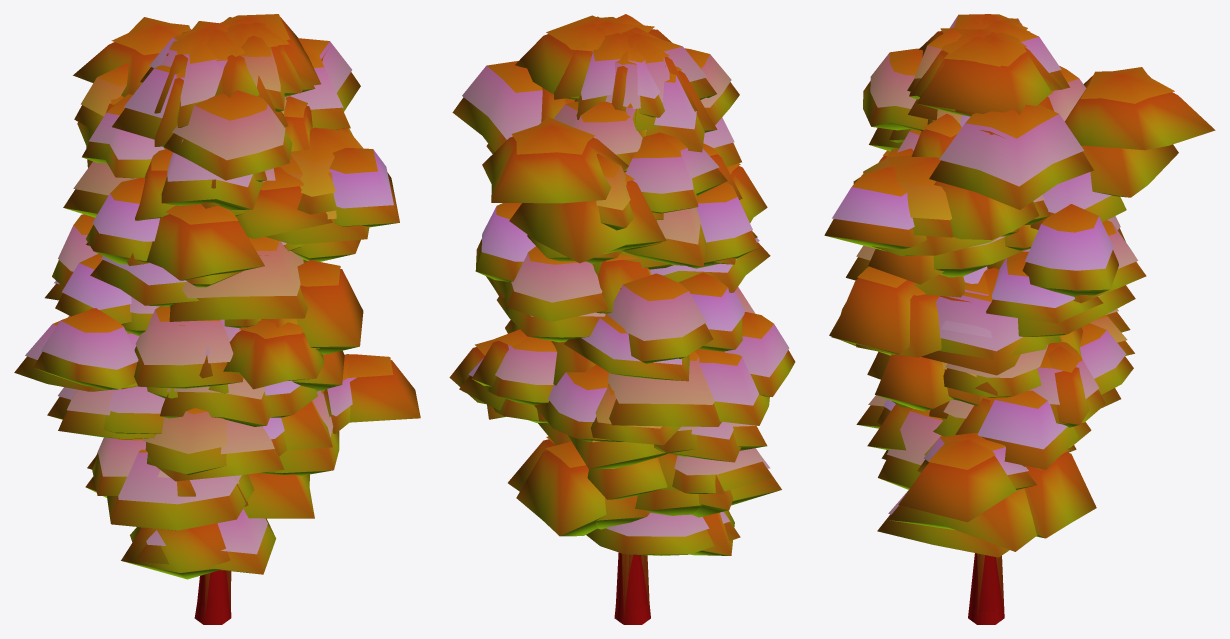
The model's file is stonepine.glb.
3 renders of one model, left to right at view 1: azimuth 30°, elevation 25°; view 2: azimuth 150°, elevation 25°; view 3: azimuth 270°, elevation 25°, orthographic. The views are drawn at different scales.
Parts seen in each view (by area): view 1: v9, v2, v8, v5, v9_far, v1, v8_far, v7, v4, v4_far, v3, v1_far (+4 smaller); view 2: v9, v2, v4, v8, v1, v0, v8_far, v3, v7, v5, v9_far, v4_far (+6 smaller); view 3: v9, v8, v8_far, v4_far, v4, v9_far, v2, v3, v7, v1, v1_far, v0 (+4 smaller).
Part boxes in pixels (left/top/right/bottom): v9: left=52, top=38, right=369, bottom=439; v2: left=33, top=21, right=292, bottom=390; v8: left=73, top=17, right=363, bottom=624; v5: left=107, top=30, right=339, bottom=530; v9_far: left=47, top=65, right=363, bottom=434; v1: left=68, top=30, right=324, bottom=481; v8_far: left=45, top=14, right=420, bottom=623; v7: left=92, top=35, right=332, bottom=496; v4: left=14, top=22, right=352, bottom=391; v4_far: left=55, top=16, right=399, bottom=614; v3: left=130, top=19, right=314, bottom=624; v1_far: left=63, top=32, right=275, bottom=474; v9: left=452, top=61, right=767, bottom=457; v2: left=485, top=32, right=795, bottom=562; v4: left=486, top=16, right=769, bottom=425; v8: left=482, top=17, right=757, bottom=624; v1: left=497, top=33, right=770, bottom=426; v0: left=516, top=35, right=697, bottom=624; v8_far: left=449, top=15, right=689, bottom=616; v3: left=508, top=27, right=740, bottom=624; v7: left=534, top=14, right=772, bottom=493; v5: left=538, top=27, right=781, bottom=515; v9_far: left=527, top=73, right=740, bottom=462; v4_far: left=459, top=24, right=745, bottom=623; v9: left=846, top=104, right=1178, bottom=407; v8: left=829, top=28, right=1215, bottom=609; v8_far: left=886, top=32, right=1051, bottom=605; v4_far: left=824, top=37, right=1078, bottom=469; v4: left=856, top=36, right=1146, bottom=466; v9_far: left=831, top=99, right=1126, bottom=355; v2: left=863, top=18, right=1105, bottom=424; v3: left=877, top=32, right=1076, bottom=612; v7: left=867, top=28, right=1133, bottom=554; v1: left=856, top=14, right=1135, bottom=436; v1_far: left=907, top=20, right=1061, bottom=375; v0: left=960, top=15, right=1096, bottom=624.
Bounding box in the file's own units: 7.86 × 12.48 × 7.33.
